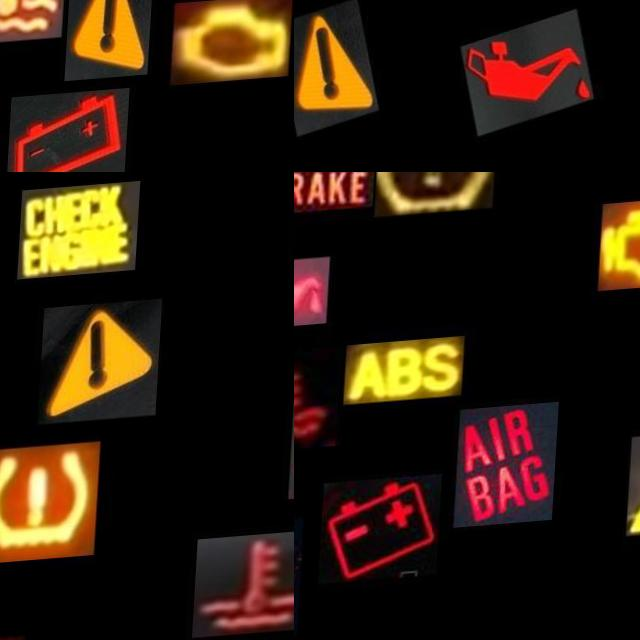Central Warning lamp: (42, 304, 166, 428), (294, 0, 390, 142), (69, 0, 158, 88)
Engine cooling system: (199, 537, 294, 640), (294, 349, 345, 456), (0, 0, 71, 51)
